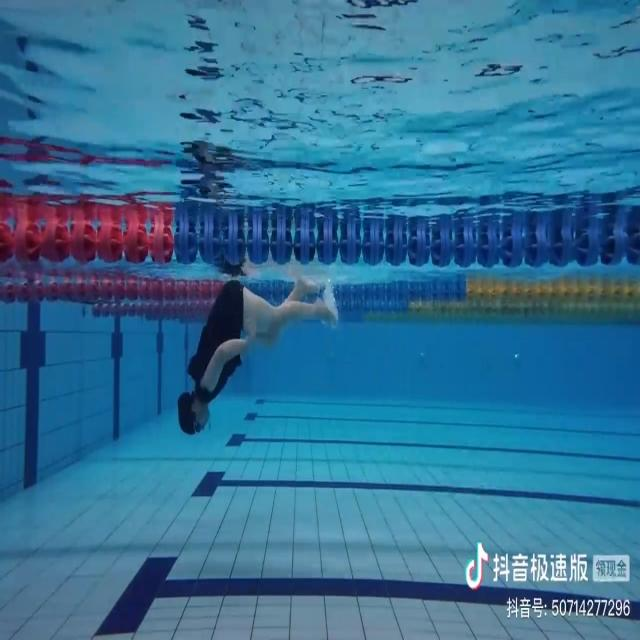Swimming: (178, 271, 340, 438)
